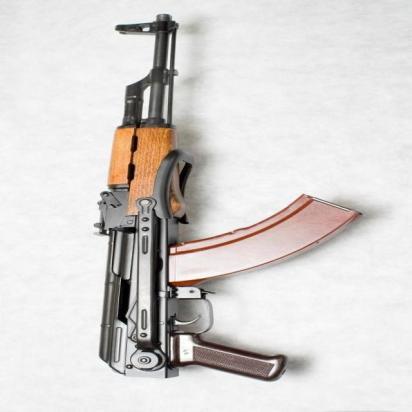Gun: (96, 4, 300, 384)
